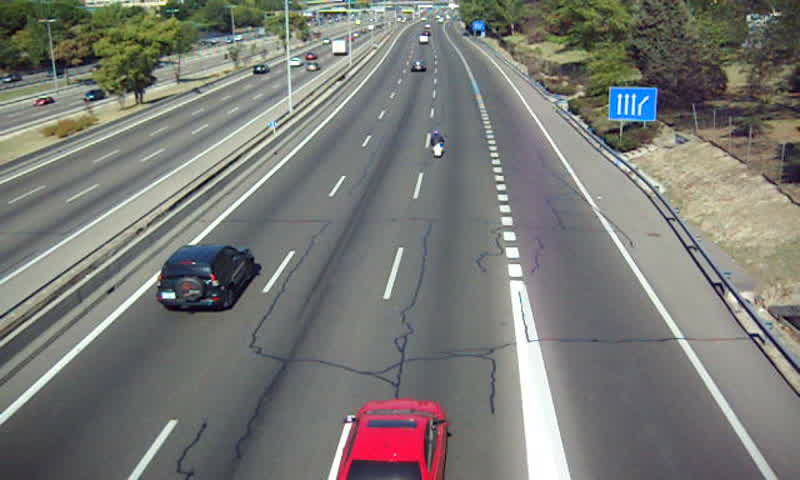car: (339, 400, 449, 480), (158, 244, 256, 310)
motorcycle: (429, 130, 445, 160)
